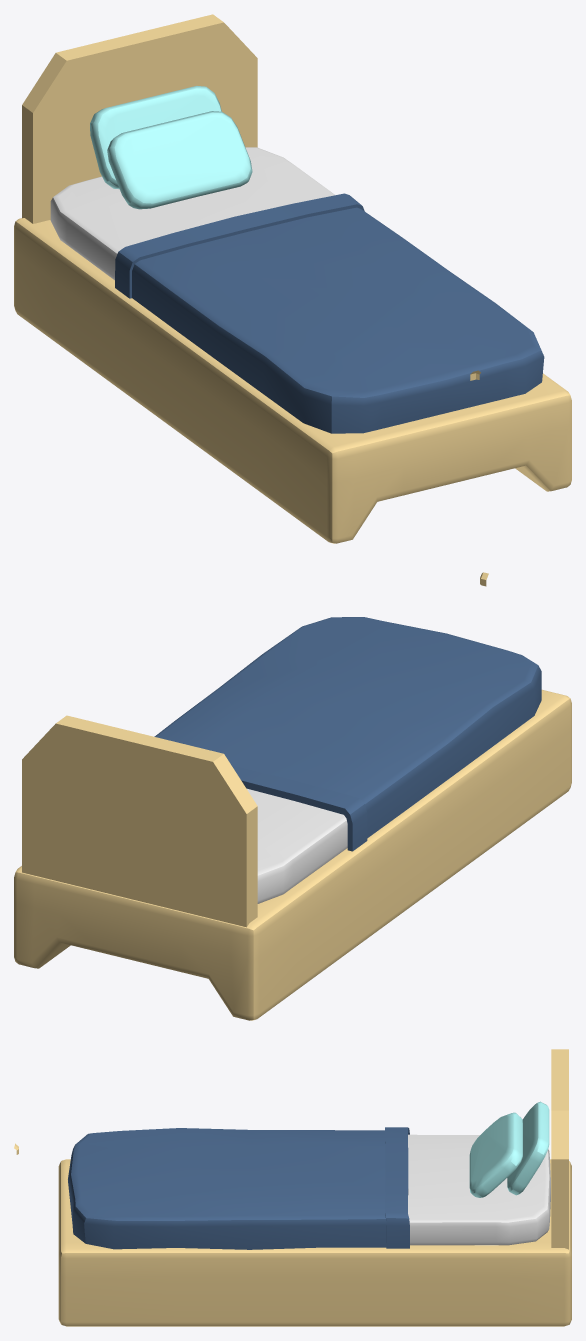
File: bed.fbx
The picture shows the model from 3 angles, top to bottom: view 1: azimuth 30°, elevation 25°; view 2: azimuth 150°, elevation 25°; view 3: azimuth 270°, elevation 25°; orthographic projection. The views are drawn at different scales.
Parts seen in each view (by area): view 1: pCube201.004; view 2: pCube201.004; view 3: pCube201.004.
Part boxes in pixels (x1,y1,x2,y2): pCube201.004: (14,14,571,543); pCube201.004: (14,572,571,1020); pCube201.004: (14,1049,571,1326).
Bounding box in the file's own units: 79.21 × 78.26 × 196.
